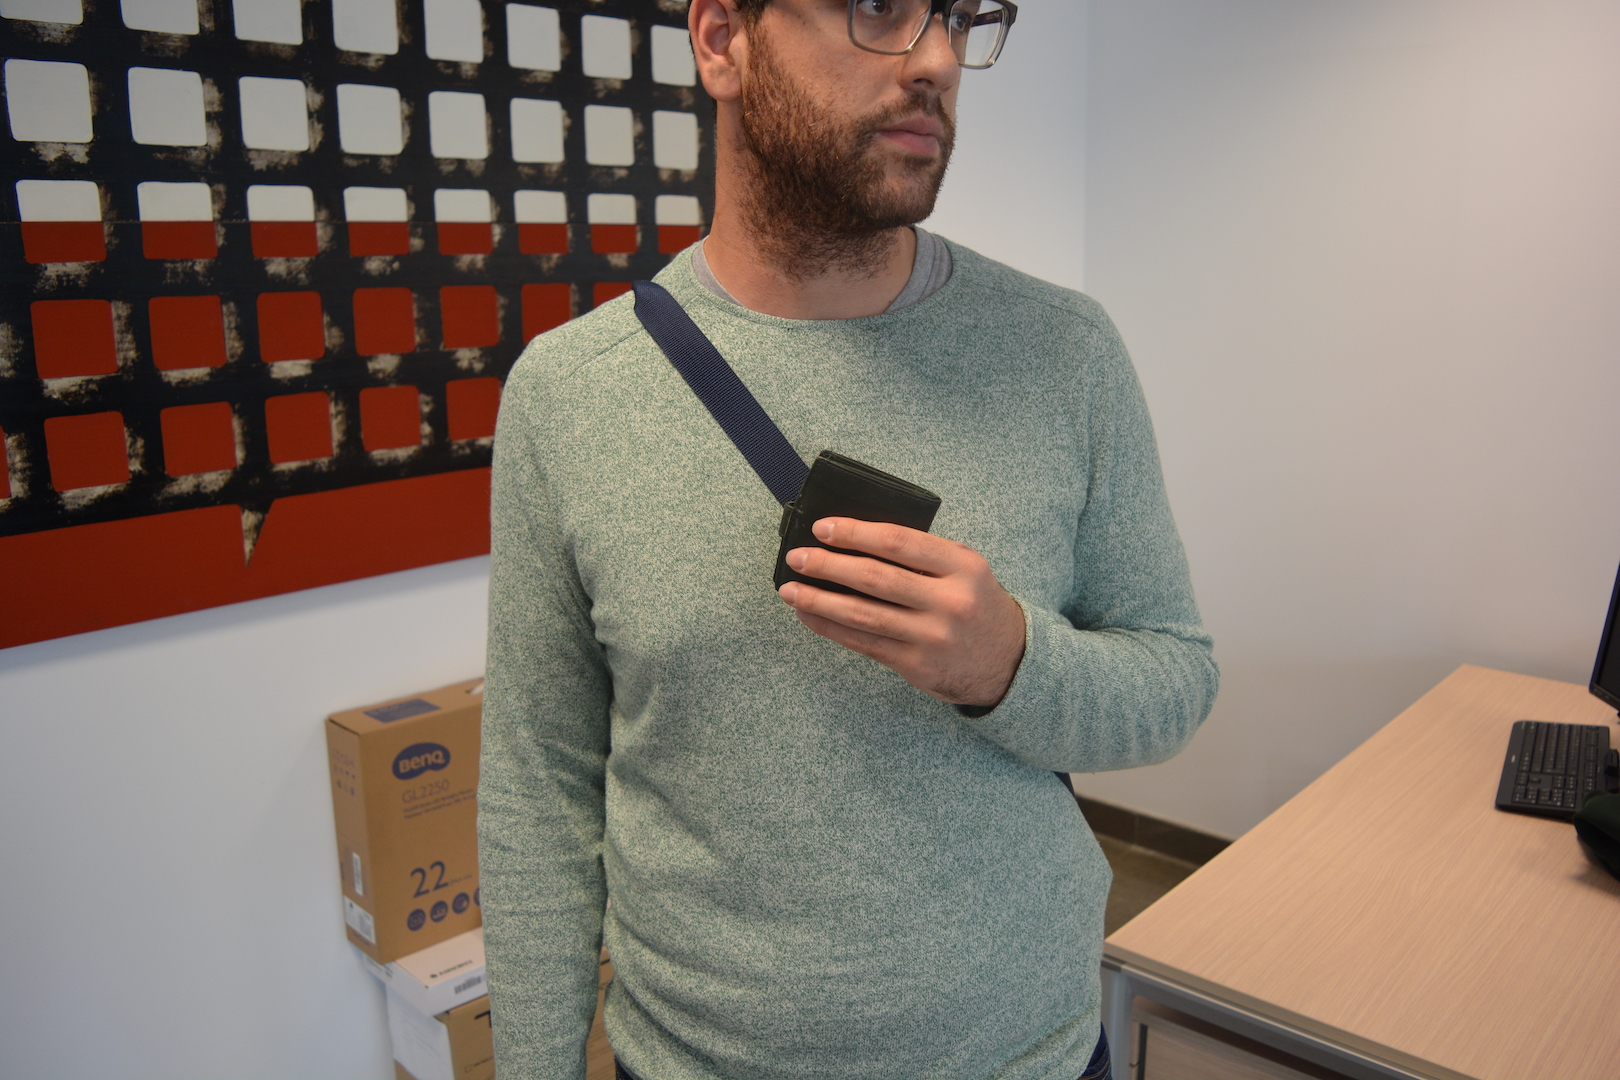monedero: (774, 450, 944, 600)
